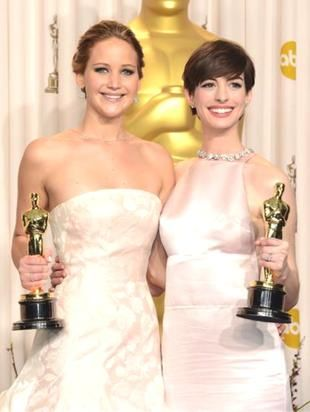hand: (18, 259, 48, 284)
